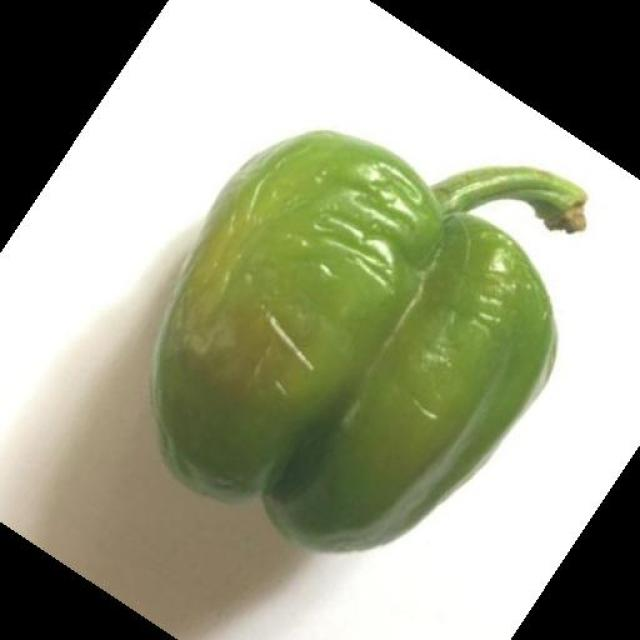Stale_Capsicum: (112, 163, 590, 473)
